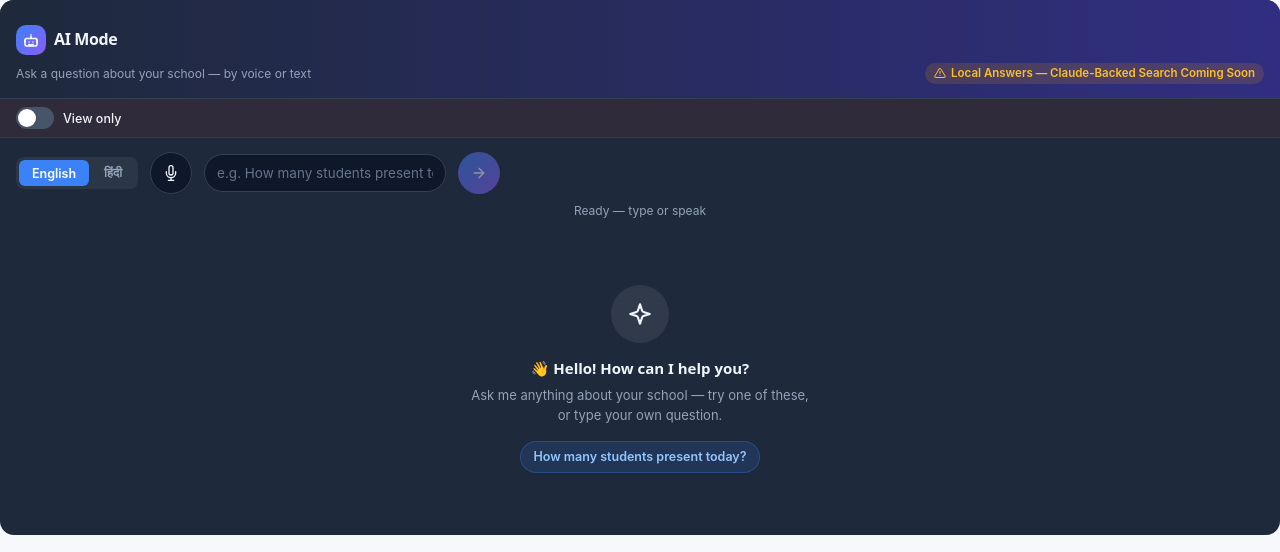
it: AiSearchScreen › tapping a suggestion chip submits it as a typed question
The image size is (1280, 552).
Click the button "How many students present today?" at [640, 457], box x1=520 y1=441 x2=760 y2=473
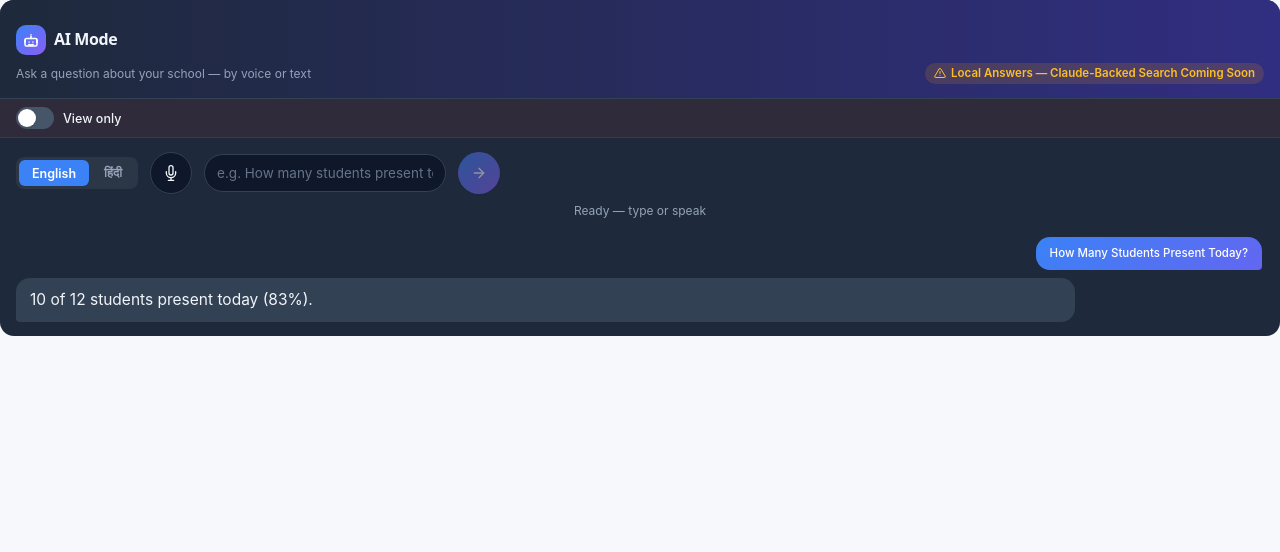
Check: the text "10 of 12 students present today (83%)." is shown, box x1=16 y1=278 x2=1075 y2=322
